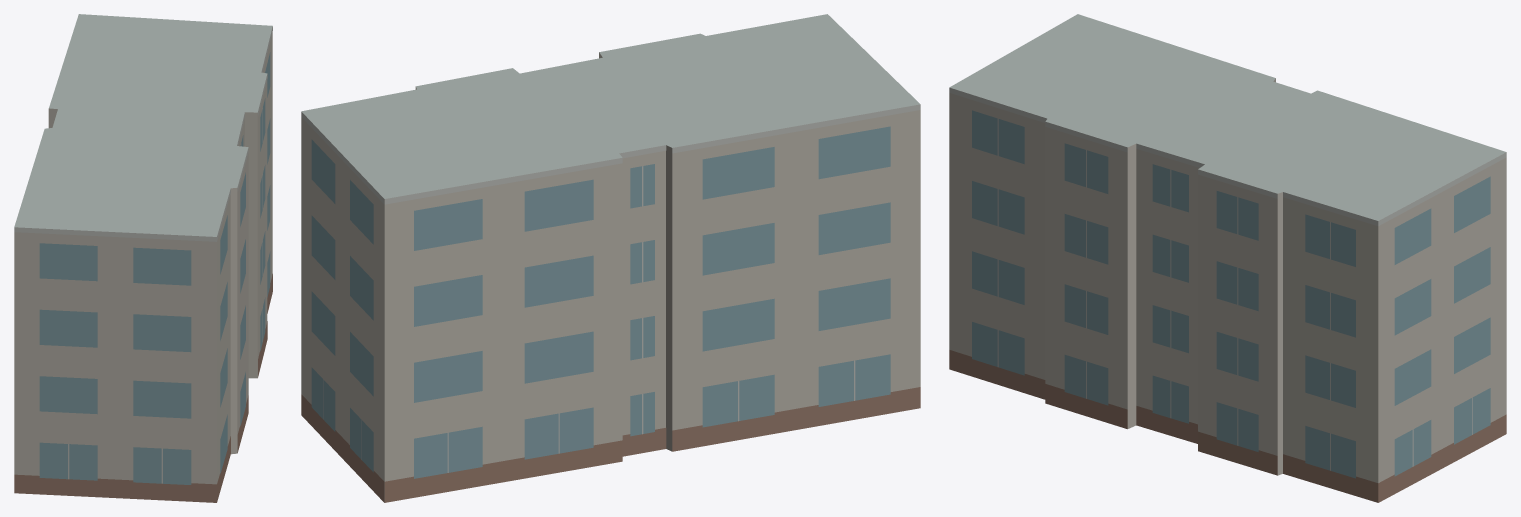
Rendered from survey-upis-33030325.glb.
The picture shows the model from 3 angles, left to right: view 1: azimuth 30°, elevation 25°; view 2: azimuth 150°, elevation 25°; view 3: azimuth 270°, elevation 25°; orthographic projection. The views are drawn at different scales.
Parts seen in each view (by area): view 1: survey-upis-33030325.tmp; view 2: survey-upis-33030325.tmp; view 3: survey-upis-33030325.tmp.
Boxes of the visible parts, x1,y1,x2,y2 form: survey-upis-33030325.tmp: (14, 14, 272, 502); survey-upis-33030325.tmp: (301, 14, 920, 502); survey-upis-33030325.tmp: (949, 14, 1506, 502).
Bounding box in the file's own units: 20.97 × 13.3 × 23.85.
